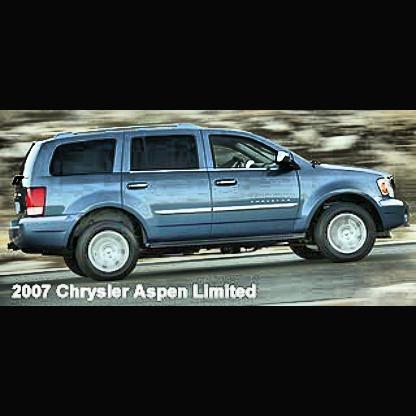Chrysler Aspen SUV 2009: (9, 130, 410, 295)
